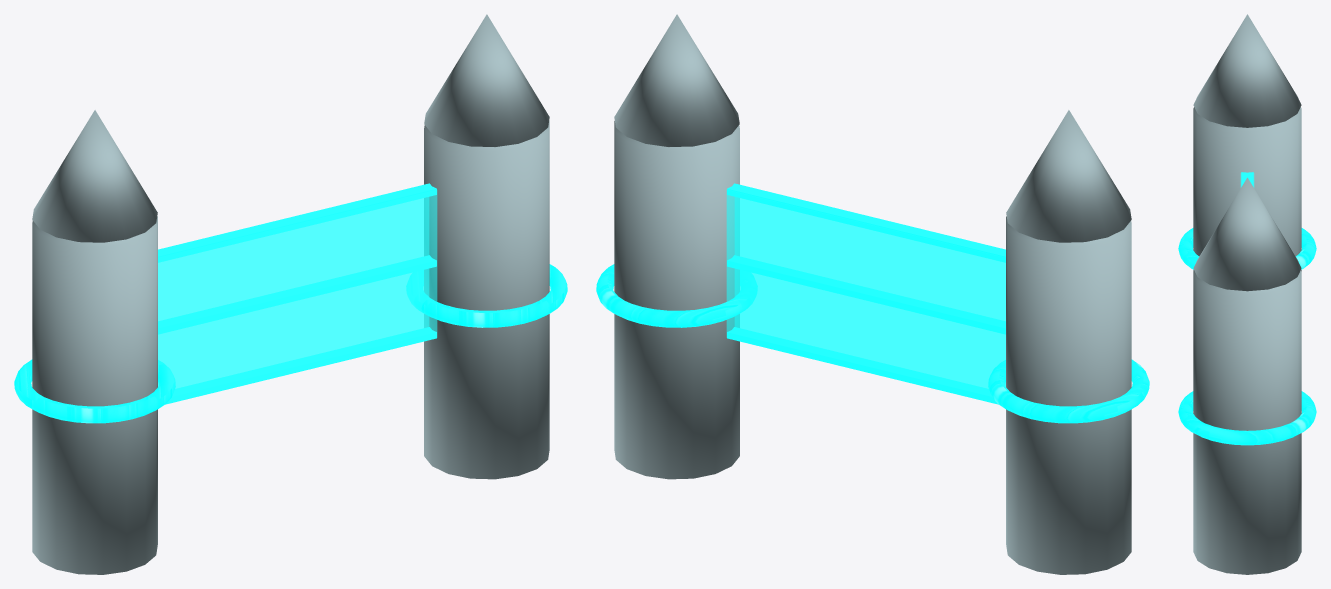
File: azure_hardlight_gate.glb
3 renders of one model, left to right at view 1: azimuth 30°, elevation 25°; view 2: azimuth 150°, elevation 25°; view 3: azimuth 270°, elevation 25°, orthographic. The views are drawn at different scales.
Parts seen in each view (by area): view 1: AzureHardlightGate; view 2: AzureHardlightGate; view 3: AzureHardlightGate.
Part boxes in pixels (left/top/right/bottom): AzureHardlightGate: left=14, top=14, right=567, bottom=574; AzureHardlightGate: left=596, top=14, right=1149, bottom=574; AzureHardlightGate: left=1178, top=14, right=1316, bottom=574.
Size of the model in its own units: 2.72 by 2.14 by 0.716.
Materials: 3 (3 with a texture image).
